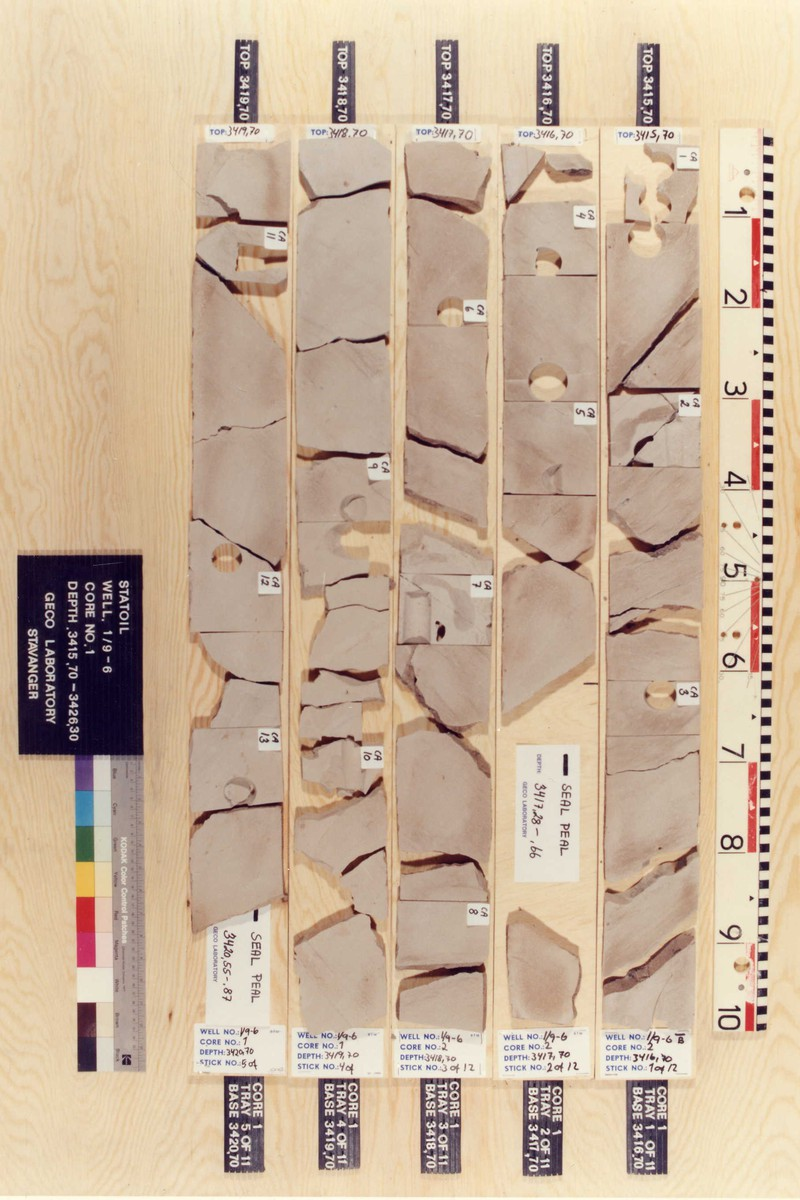core: (600, 145, 704, 1031), (298, 138, 392, 1032), (399, 147, 494, 1029), (193, 141, 289, 941), (498, 145, 600, 725), (505, 916, 586, 1027)
